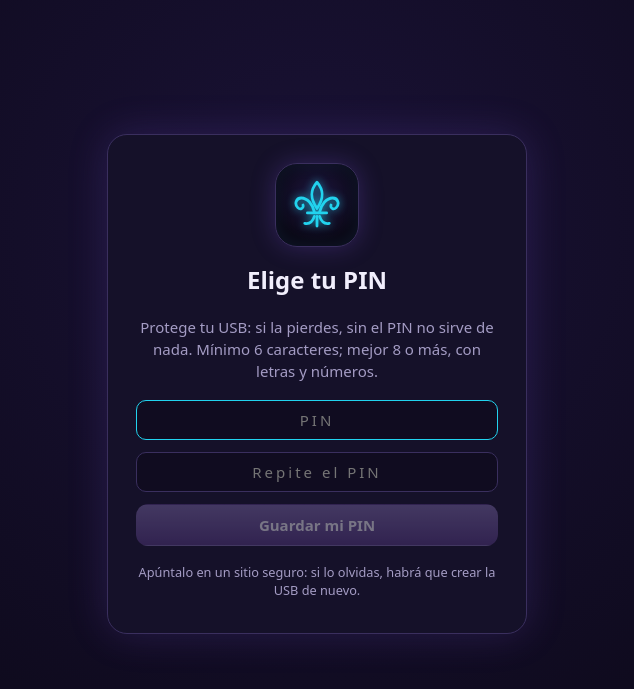
Test: PIN de la USB › la primera vez pide elegirlo dos veces, con mínimo de largo
This screenshot has width=634, height=689.
Later steps or results of the test are not shown.
Type "123" into the password field labelled "PIN" at (317, 420), box [136,400,498,440]
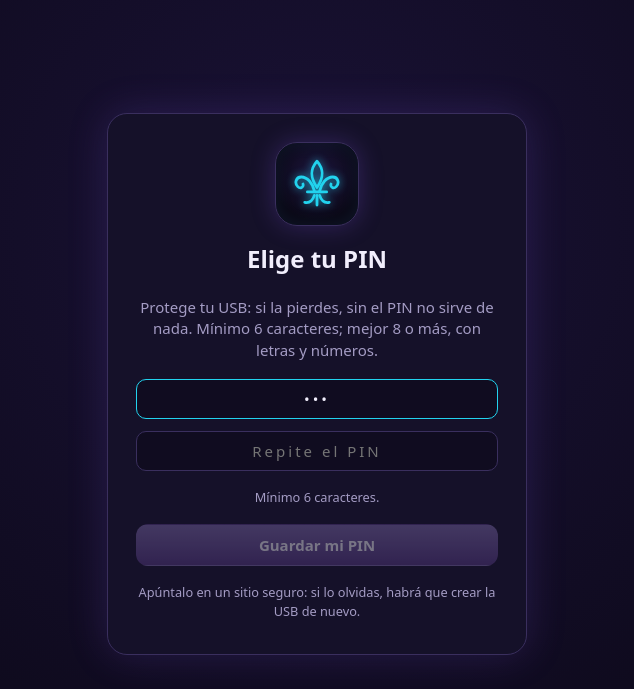
Expected: the button "Guardar mi PIN" is disabled, [136,524,498,566]
Type "clave-123" into the password field named "PIN" at (317, 399), box [136,379,498,419]
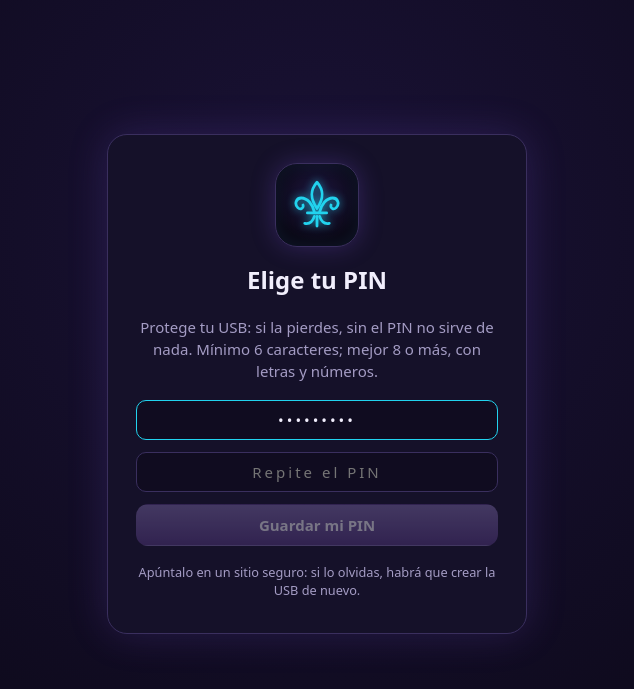
Type "clave-124" into the password field labelled "Repite el PIN" at (317, 472), box [136,452,498,492]
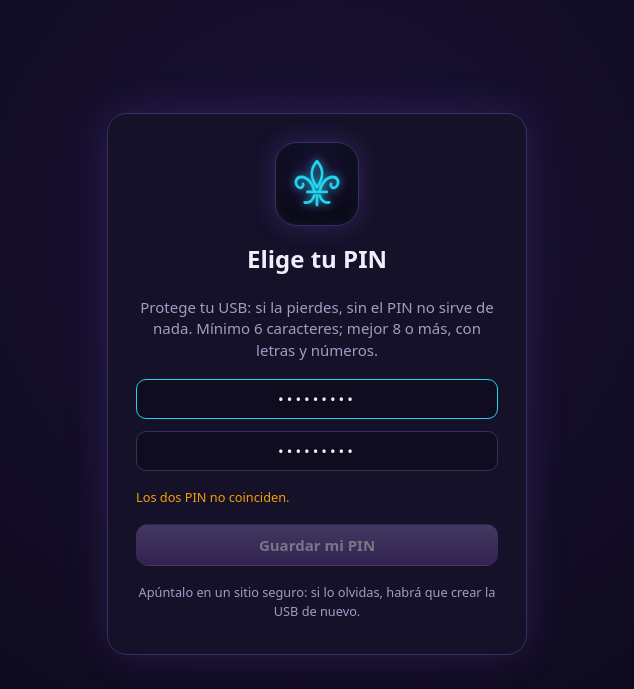
Expected: the button "Guardar mi PIN" is disabled, [136,524,498,566]
Expected: the text "Los dos PIN no coinciden." is shown, [136,488,290,506]
